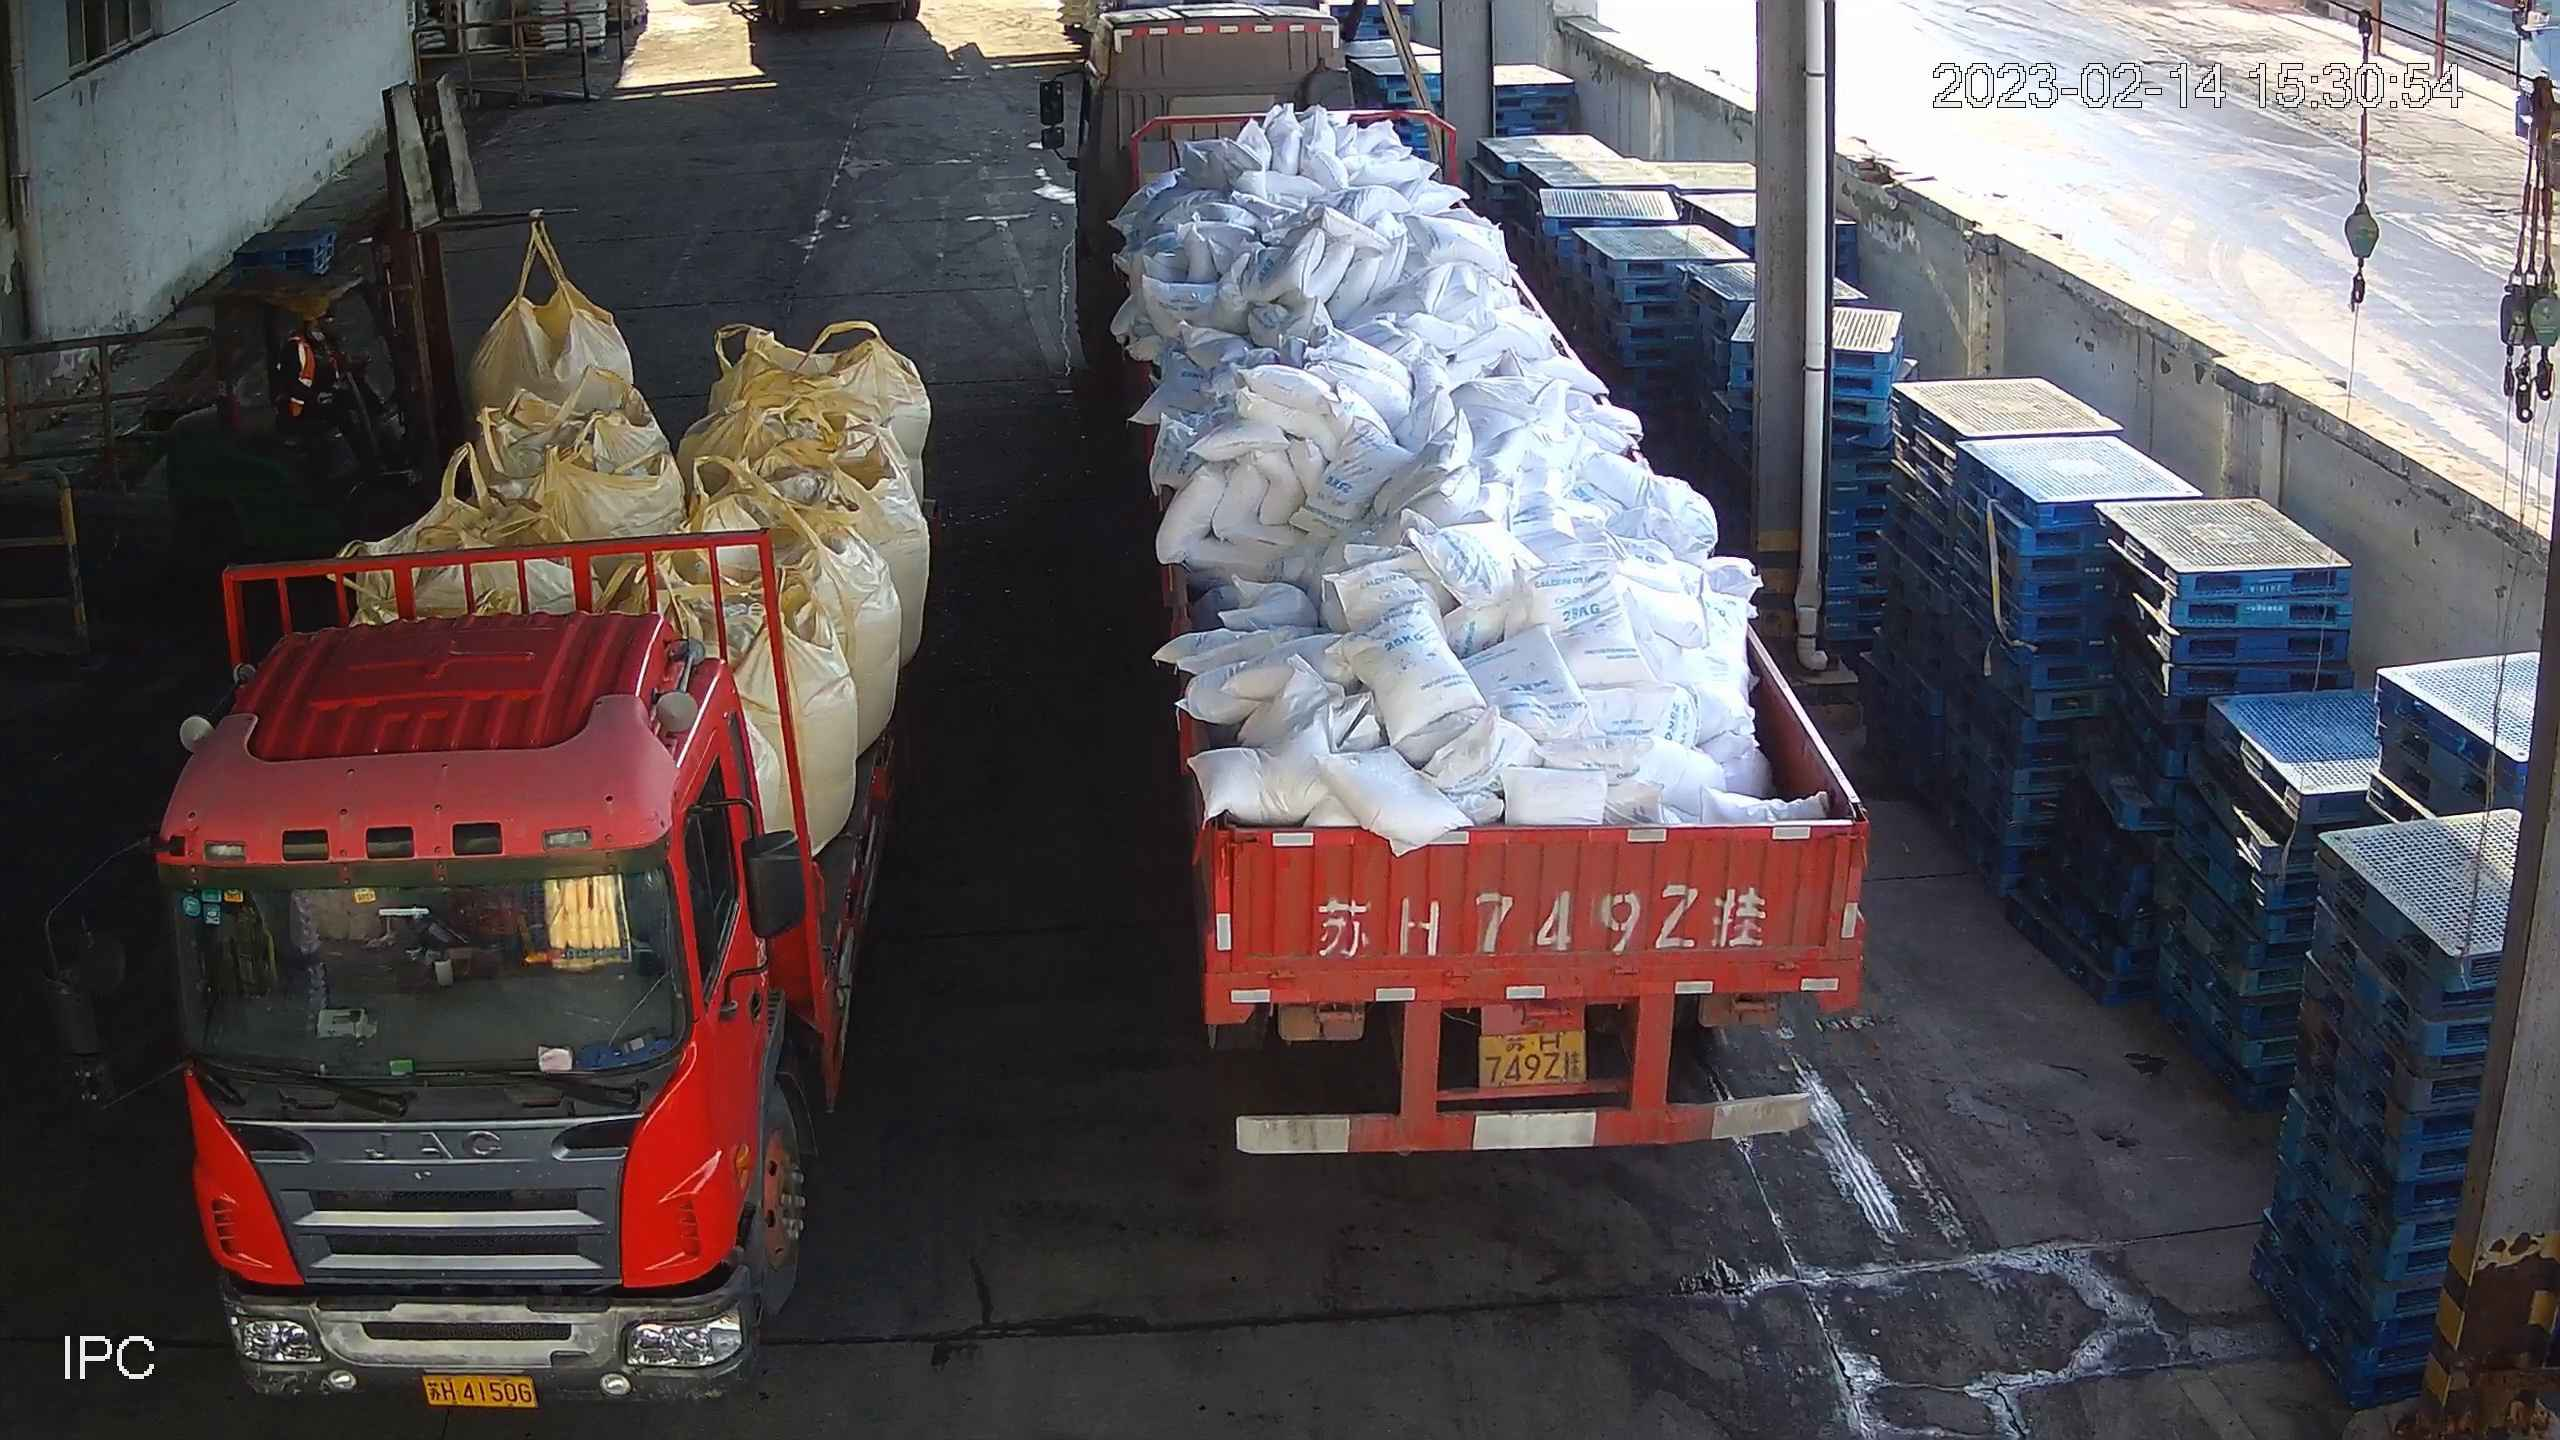truck: (1036, 5, 1874, 1162), (32, 498, 941, 1419)
